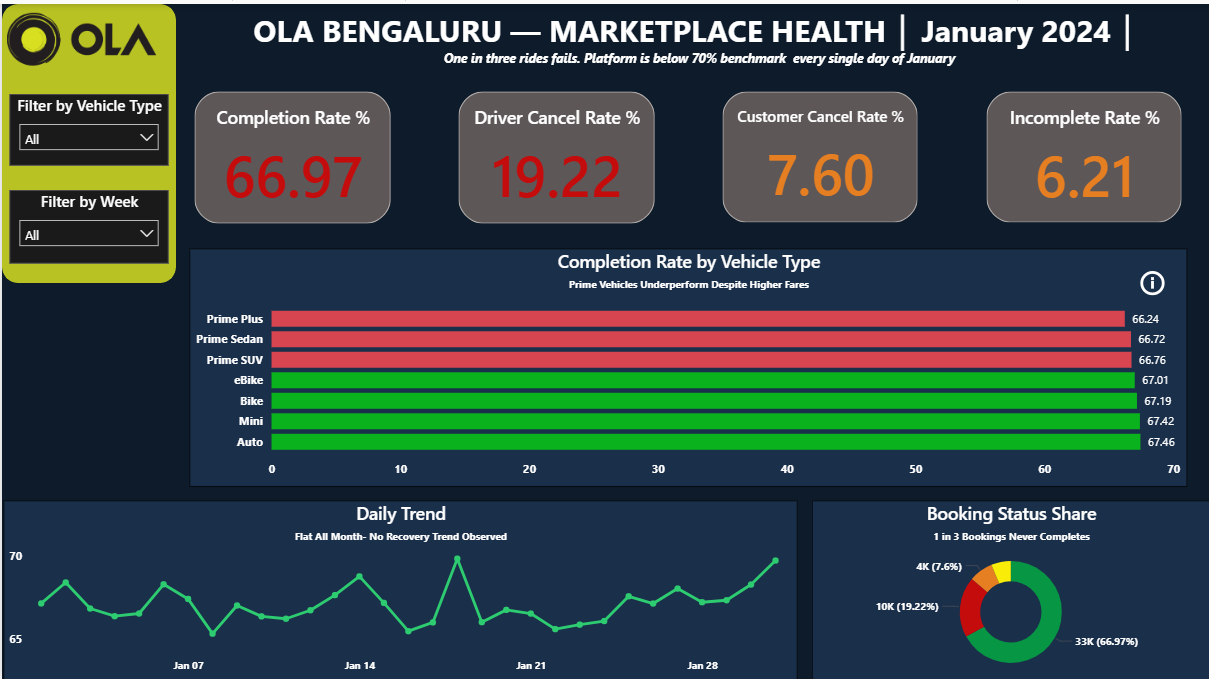

What the dashboard file says about the page in this screenshot:
{"tool":"powerbi","page":{"name":"Executive Overview","canvas":[1280,720],"ordinal":0},"visuals":[{"type":"shape","box":[0,0,184.5,295.9],"z":0},{"type":"cardVisual","fields":{"Data":["Measure Table.Completion Rate %"]},"box":[198.8,87.5,218.3,150],"z":0,"group":"g2"},{"type":"cardVisual","fields":{"Data":["Measure Table.Driver Cancel Rate %"]},"box":[478.8,87.5,218.3,150],"z":0,"group":"g1"},{"type":"cardVisual","fields":{"Data":["Measure Table.Customer Cancel Rate %"]},"box":[758.7,87.5,217.9,149.5],"z":1000},{"type":"textbox","box":[233.2,0,1003.9,74.5],"z":2000},{"type":"slicer","title":"Filter by Vehicle Type","fields":{"Values":["ola_powerbi_ready.Vehicle Type"]},"box":[8.1,95.5,168.4,76.1],"z":3000},{"type":"slicer","title":"Filter by Week","fields":{"Values":["ola_powerbi_ready.Week_Number"]},"box":[8.1,197.5,168.4,77.7],"z":4000},{"type":"cardVisual","fields":{"Data":["Measure Table.Incomplete Rate %"]},"box":[1038.7,87.5,217.9,149.5],"z":5000},{"type":"group","id":"g1","title":"Group 1","box":[478.8,87.5,217.9,149.5],"z":6000},{"type":"clusteredBarChart","title":"Completion Rate by Vehicle Type","fields":{"Category":["ola_powerbi_ready.Vehicle Type"],"Y":["Measure Table.Completion Rate %"]},"box":[198.8,259.3,1057.8,252.9],"z":7000},{"type":"actionButton","box":[1202.5,275.2,35,41.4],"z":8000},{"type":"lineChart","title":"Daily Trend","fields":{"Y":["Measure Table.Completion Rate %"],"Category":["ola_powerbi_ready.Date.Variation.Date Hierarchy.Year","ola_powerbi_ready.Date.Variation.Date Hierarchy.Quarter","ola_powerbi_ready.Date.Variation.Date Hierarchy.Month","ola_powerbi_ready.Date.Variation.Date Hierarchy.Day"]},"box":[1.7,526.7,841.7,193.3],"z":9000},{"type":"donutChart","title":"Booking Status Share","fields":{"Category":["ola_powerbi_ready.Booking Status"],"Y":["Measure Table.Total Bookings"]},"box":[858.3,526.7,421.7,193.3],"z":10000},{"type":"image","box":[0,0,168.4,74.5],"z":11000},{"type":"group","id":"g2","title":"Group 1","box":[198.8,87.5,217.9,149.5],"z":12000}]}

Visuals, with their boxes in screenshot pixels (x1, y1, x2, y2), scaled from the page's 1280x720 canvas onto the 1209x679 screenshot:
shape: <box>0,0,174,279</box>
cardVisual - Measure Table.Completion Rate %: <box>188,83,394,224</box>
cardVisual - Measure Table.Driver Cancel Rate %: <box>452,83,658,224</box>
cardVisual - Measure Table.Customer Cancel Rate %: <box>717,83,922,224</box>
textbox: <box>220,0,1168,70</box>
"Filter by Vehicle Type" slicer: <box>8,90,167,162</box>
"Filter by Week" slicer: <box>8,186,167,260</box>
cardVisual - Measure Table.Incomplete Rate %: <box>981,83,1187,224</box>
"Group 1" group: <box>452,83,658,224</box>
"Completion Rate by Vehicle Type" clusteredBarChart: <box>188,245,1187,483</box>
actionButton: <box>1136,260,1169,299</box>
"Daily Trend" lineChart: <box>2,497,797,678</box>
"Booking Status Share" donutChart: <box>811,497,1208,678</box>
image: <box>0,0,159,70</box>
"Group 1" group: <box>188,83,394,224</box>
